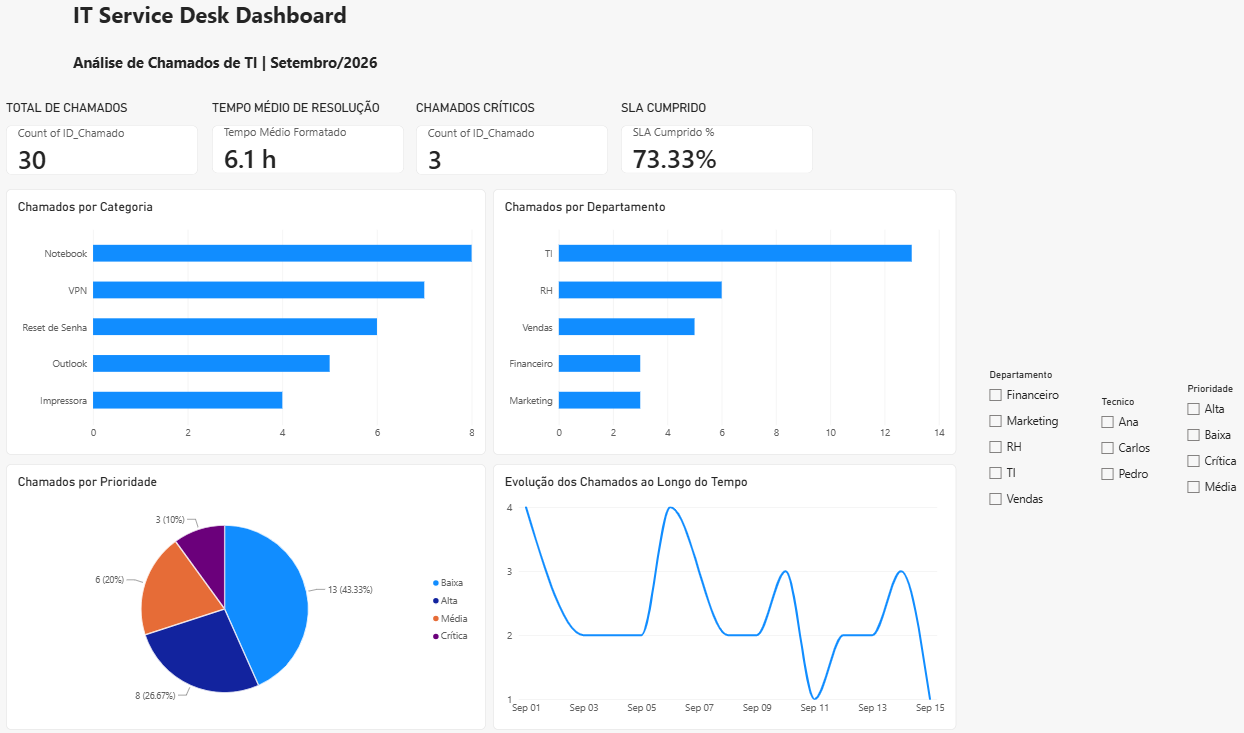

The page's visual inventory and layout, read from the dashboard file:
{"tool":"powerbi","page":{"name":"Page 1","canvas":[1920,1080],"ordinal":0},"visuals":[{"type":"cardVisual","title":"TOTAL DE CHAMADOS","fields":{"Data":["Count(ID_Chamado,Data_Abertura,Data_Fecha.ID_Chamado)"]},"box":[10.2,147.4,280.1,109.4],"z":0},{"type":"cardVisual","title":"TEMPO MÉDIO DE RESOLUÇÃO","fields":{"Data":["ID_Chamado,Data_Abertura,Data_Fecha.Tempo Médio Formatado"]},"box":[310.8,147.4,280.1,109.4],"z":1},{"type":"cardVisual","title":"CHAMADOS CRÍTICOS","fields":{"Data":["Count(ID_Chamado,Data_Abertura,Data_Fecha.ID_Chamado)"]},"box":[608.4,147.4,280.1,109.4],"z":2},{"type":"cardVisual","title":"SLA CUMPRIDO ","fields":{"Data":["ID_Chamado,Data_Abertura,Data_Fecha.SLA Cumprido %"]},"box":[907.5,147.4,280.1,108],"z":3},{"type":"clusteredBarChart","title":"Chamados por Categoria ","fields":{"Category":["ID_Chamado,Data_Abertura,Data_Fecha.Categoria"],"Y":["Count(ID_Chamado,Data_Abertura,Data_Fecha.ID_Chamado)"]},"box":[10.2,277.2,700.3,388.1],"z":4},{"type":"pieChart","title":"Chamados por Prioridade ","fields":{"Category":["ID_Chamado,Data_Abertura,Data_Fecha.Prioridade"],"Y":["Count(ID_Chamado,Data_Abertura,Data_Fecha.ID_Chamado)"]},"box":[10.2,678.4,700,388],"z":5},{"type":"clusteredBarChart","title":"Chamados por Departamento ","fields":{"Category":["ID_Chamado,Data_Abertura,Data_Fecha.Departamento"],"Y":["Count(ID_Chamado,Data_Abertura,Data_Fecha.ID_Chamado)"]},"box":[720.7,277.2,675.5,388.1],"z":6},{"type":"lineChart","title":"Evolução dos Chamados ao Longo do Tempo ","fields":{"Category":["ID_Chamado,Data_Abertura,Data_Fecha.Data_Abertura"],"Y":["Count(ID_Chamado,Data_Abertura,Data_Fecha.ID_Chamado)"]},"box":[720.7,678.4,675.5,388.1],"z":7},{"type":"slicer","fields":{"Values":["ID_Chamado,Data_Abertura,Data_Fecha.Departamento"]},"box":[1437.1,539.8,118.2,213],"z":8},{"type":"slicer","fields":{"Values":["ID_Chamado,Data_Abertura,Data_Fecha.Tecnico"]},"box":[1600.5,579.2,91.9,134.2],"z":9},{"type":"slicer","fields":{"Values":["ID_Chamado,Data_Abertura,Data_Fecha.Prioridade"]},"box":[1726,560.2,97.8,172.2],"z":10},{"type":"textbox","box":[108,0,442.1,48.1],"z":11},{"type":"textbox","box":[108,77.3,471.2,39.4],"z":12}]}

Visuals, with their boxes on the page's 1920x1080 design canvas (x1, y1, x2, y2). These are canvas units, not pixel positions in the 1244x733 screenshot, which may show the page scaled, cropped or inside an application window:
"TOTAL DE CHAMADOS" cardVisual: box(10, 147, 290, 257)
"TEMPO MÉDIO DE RESOLUÇÃO" cardVisual: box(311, 147, 591, 257)
"CHAMADOS CRÍTICOS" cardVisual: box(608, 147, 888, 257)
"SLA CUMPRIDO " cardVisual: box(908, 147, 1188, 255)
"Chamados por Categoria " clusteredBarChart: box(10, 277, 710, 665)
"Chamados por Prioridade " pieChart: box(10, 678, 710, 1066)
"Chamados por Departamento " clusteredBarChart: box(721, 277, 1396, 665)
"Evolução dos Chamados ao Longo do Tempo " lineChart: box(721, 678, 1396, 1066)
slicer - ID_Chamado,Data_Abertura,Data_Fecha.Departamento: box(1437, 540, 1555, 753)
slicer - ID_Chamado,Data_Abertura,Data_Fecha.Tecnico: box(1600, 579, 1692, 713)
slicer - ID_Chamado,Data_Abertura,Data_Fecha.Prioridade: box(1726, 560, 1824, 732)
textbox: box(108, 0, 550, 48)
textbox: box(108, 77, 579, 117)
